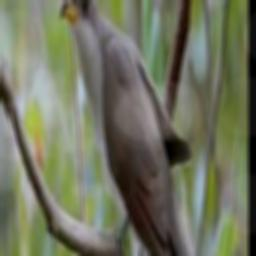Cuckoo: (61, 0, 206, 256)
